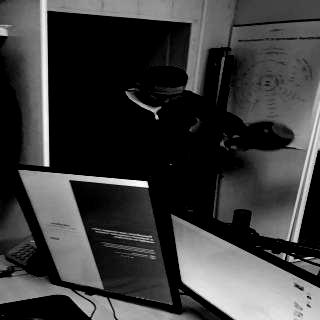kettlebell: (221, 121, 293, 151)
